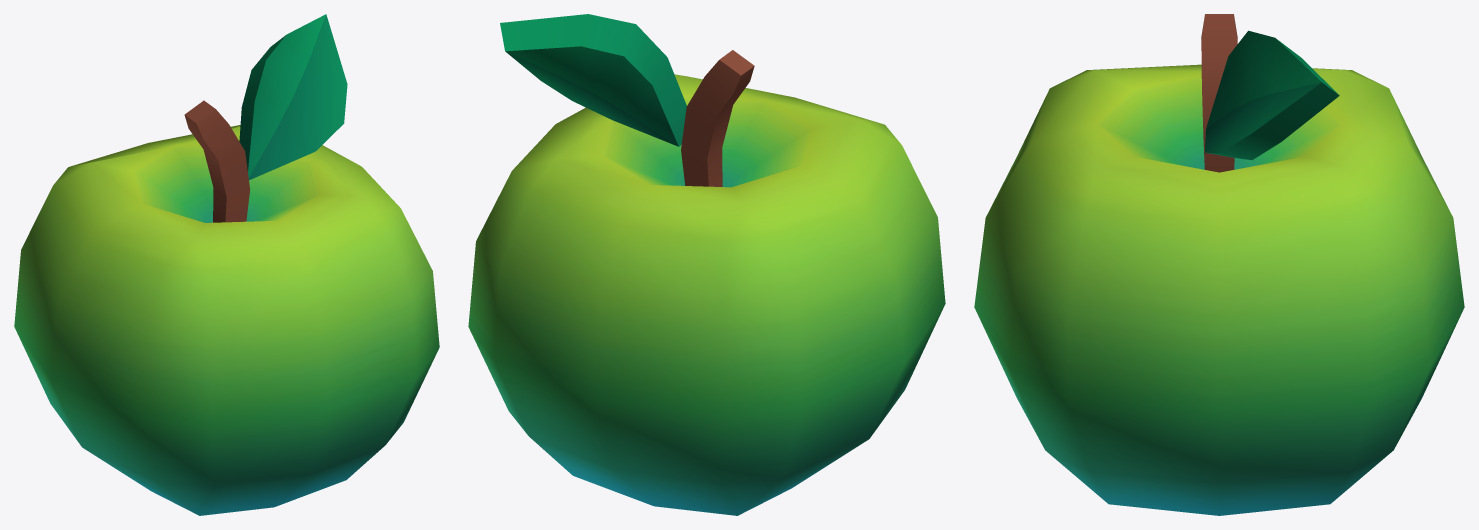
File: food_apple_green.glb
3 renders of one model, left to right at view 1: azimuth 30°, elevation 25°; view 2: azimuth 150°, elevation 25°; view 3: azimuth 270°, elevation 25°, orthographic. The views are drawn at different scales.
Parts seen in each view (by area): view 1: Food_Apple_Green; view 2: Food_Apple_Green; view 3: Food_Apple_Green.
Boxes of the visible parts, bbox=[...] form: Food_Apple_Green: bbox=[14, 14, 439, 515]; Food_Apple_Green: bbox=[468, 14, 945, 515]; Food_Apple_Green: bbox=[974, 14, 1464, 515].
Bounding box in the file's own units: 0.45 × 0.5 × 0.45.
1 material, 1 textured.
